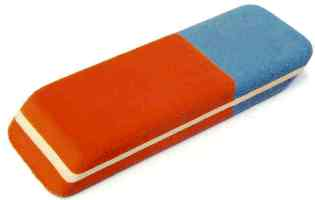eraser: (7, 2, 313, 198)
